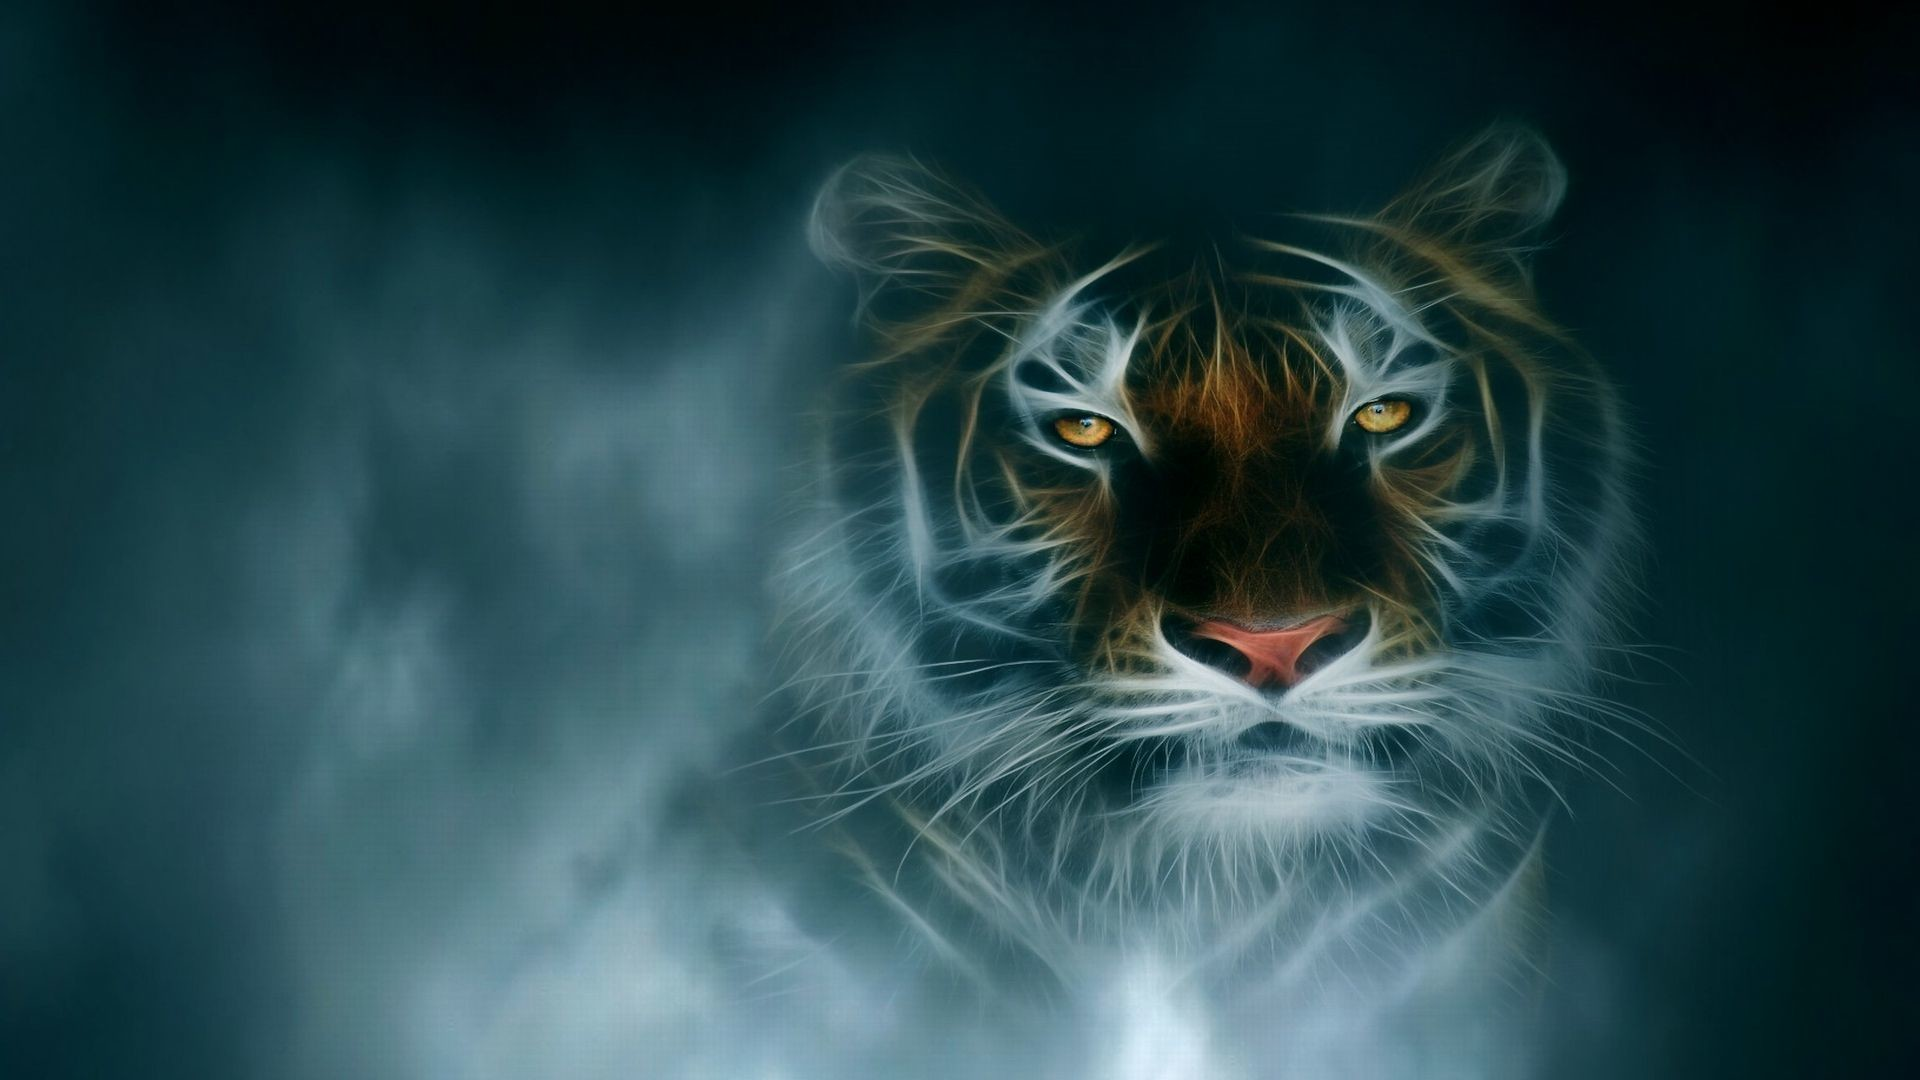Tigrew: (705, 125, 1747, 882)
